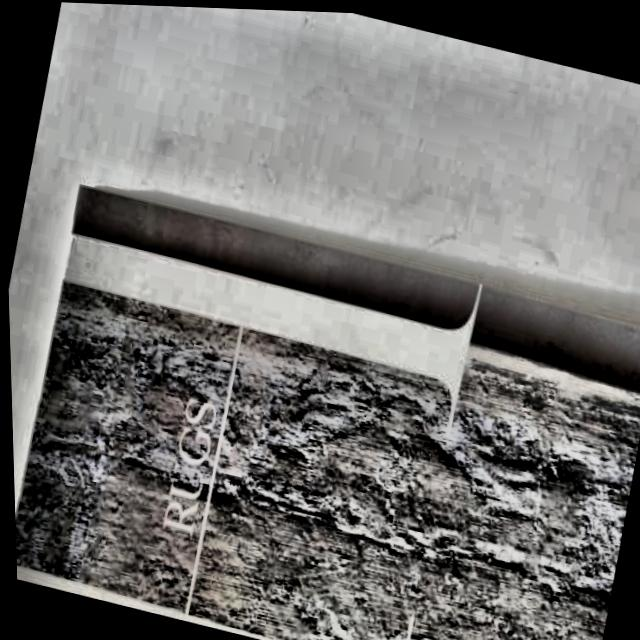Paper: (4, 158, 640, 640)
